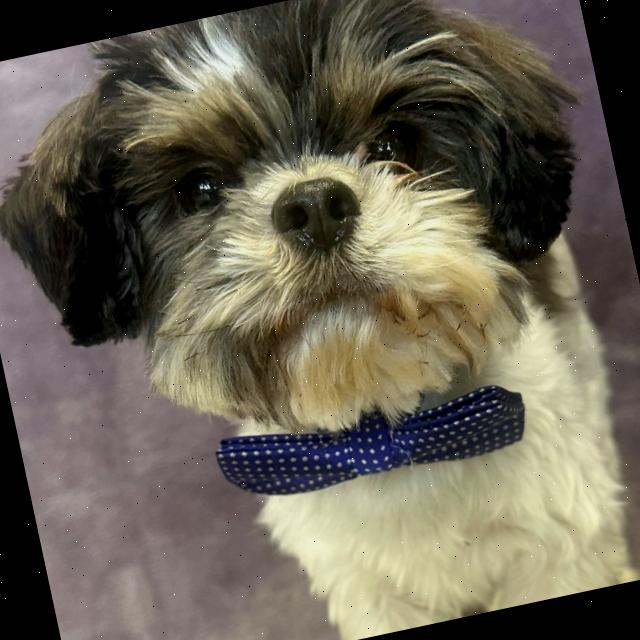shih_tzu_dog: (0, 0, 639, 504)
